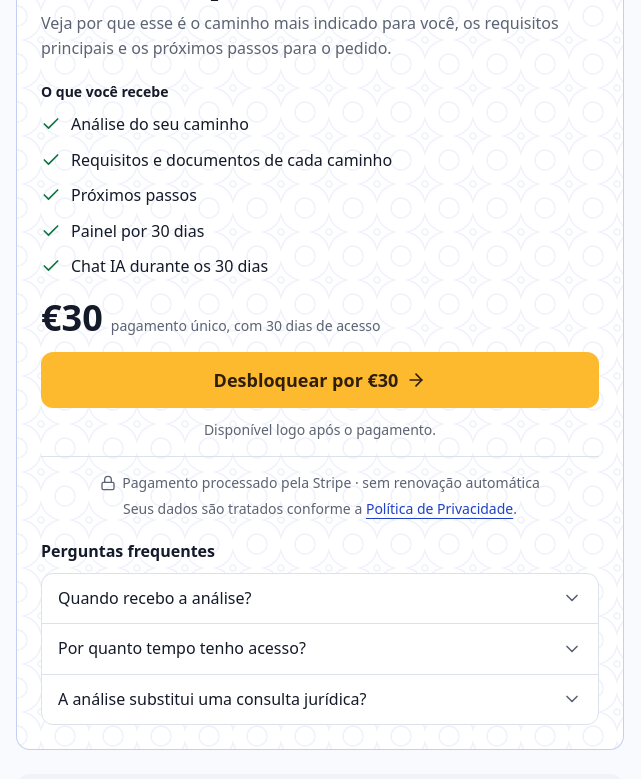
CTA fixo (DI-028) › navegador sem armazenamento: explica por que não dá para pagar daqui
(page scrolled)
Click the button with test id "results-cta-paywall": coordinates (320, 380) [41,352,599,408]
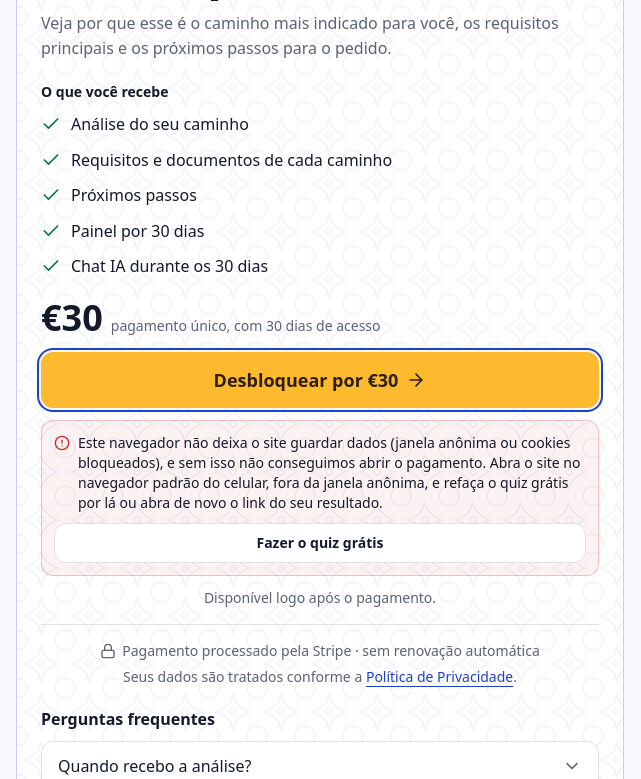
Expected: the message with test id "checkout-error" does not show "Não encontramos seu diagnóstico", [41,420,599,576]
Result: the message with test id "checkout-error" shows "não deixa o site guardar dados" at [78,433,580,512]
